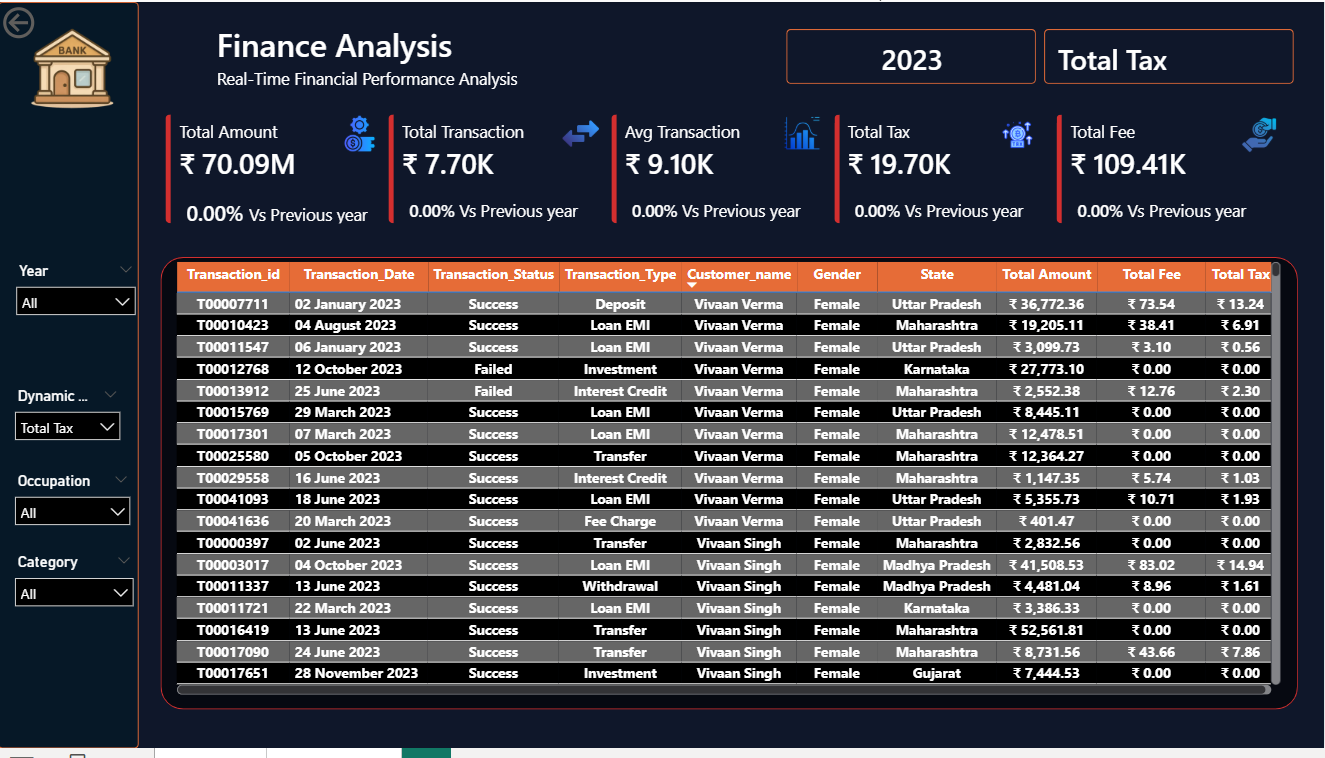

Layout of this report page (visuals, bound fields, positions):
{"tool":"powerbi","page":{"name":"Transactions","canvas":[1280,720],"ordinal":1},"visuals":[{"type":"shape","box":[0,0,135.8,720.4],"z":0},{"type":"cardVisual","fields":{"Data":["Calendar.Title"]},"box":[182.5,0,437.7,104.3],"z":1000},{"type":"image","box":[6.9,17.8,129,91.9],"z":2000},{"type":"slicer","fields":{"Values":["Calendar.Year"]},"box":[7.1,246.6,135.4,74.1],"z":3000},{"type":"image","box":[535.2,108.4,53.5,37],"z":4000},{"type":"cardVisual","fields":{"Data":["Calendar.Total Amount","Calendar.Total Transaction","Calendar.Avg Transaction","Calendar.Total Tax","Calendar.Total Fee"]},"box":[156.4,104.3,1086.8,115.3],"z":5000},{"type":"image","box":[953.7,111.1,61.7,34.3],"z":6000},{"type":"image","box":[326.6,109.8,43.9,34.3],"z":7000},{"type":"image","box":[753.3,108.4,46.7,35.7],"z":8000},{"type":"image","box":[1192.5,111.1,50.8,34.3],"z":9000},{"type":"shape","box":[156.8,246.1,1097.9,436.7],"z":10000},{"type":"cardVisual","fields":{"Data":["Calendar.Selected Year","Calendar.Selected Dynamic Metric"]},"box":[753.3,17.8,506.3,70],"z":11000},{"type":"tableEx","fields":{"Values":["finance_transactions.transaction_id","finance_transactions.transaction_date","finance_transactions.transaction_status","finance_transactions.transaction_type","customers.Customer_name","customers.gender","customers.state","Calendar.Total Amount","Calendar.Total Fee","Calendar.Total Tax"]},"box":[166.5,246.1,1076.1,427.1],"z":12000},{"type":"slicer","fields":{"Values":["Dynamic metric.Dynamic metric"]},"box":[5.7,366.9,121.8,73.1],"z":14000},{"type":"slicer","fields":{"Values":["customers.occupation"]},"box":[5.7,448.6,131.9,65.9],"z":15000},{"type":"slicer","fields":{"Values":["finance_transactions.merchant_category"]},"box":[5.7,527.5,134.7,78.8],"z":16000},{"type":"actionButton","box":[0,0,100,40],"z":16001}]}

Visuals, with their boxes on the page's 1280x720 design canvas (x1, y1, x2, y2). These are canvas units, not pixel positions in the 1325x758 screenshot, which may show the page scaled, cropped or inside an application window:
shape: Rect(0, 0, 136, 720)
cardVisual - Calendar.Title: Rect(182, 0, 620, 104)
image: Rect(7, 18, 136, 110)
slicer - Calendar.Year: Rect(7, 247, 142, 321)
image: Rect(535, 108, 589, 145)
cardVisual - Calendar.Total Amount x Calendar.Total Transaction: Rect(156, 104, 1243, 220)
image: Rect(954, 111, 1015, 145)
image: Rect(327, 110, 370, 144)
image: Rect(753, 108, 800, 144)
image: Rect(1192, 111, 1243, 145)
shape: Rect(157, 246, 1255, 683)
cardVisual - Calendar.Selected Year x Calendar.Selected Dynamic Metric: Rect(753, 18, 1260, 88)
tableEx - finance_transactions.transaction_id x finance_transactions.transaction_date: Rect(166, 246, 1243, 673)
slicer - Dynamic metric.Dynamic metric: Rect(6, 367, 128, 440)
slicer - customers.occupation: Rect(6, 449, 138, 514)
slicer - finance_transactions.merchant_category: Rect(6, 528, 140, 606)
actionButton: Rect(0, 0, 100, 40)
